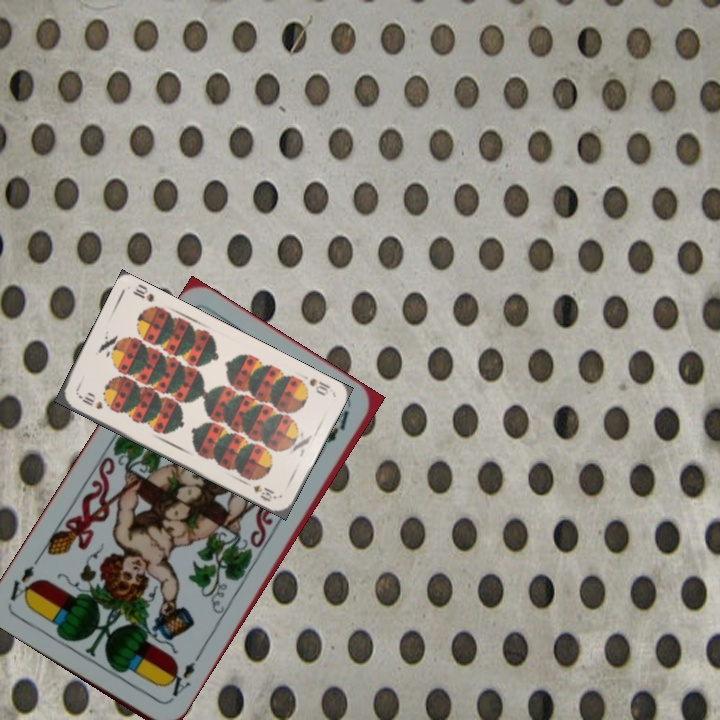EA: (160, 652, 202, 705)
S10: (305, 374, 333, 398), (74, 391, 105, 412)
